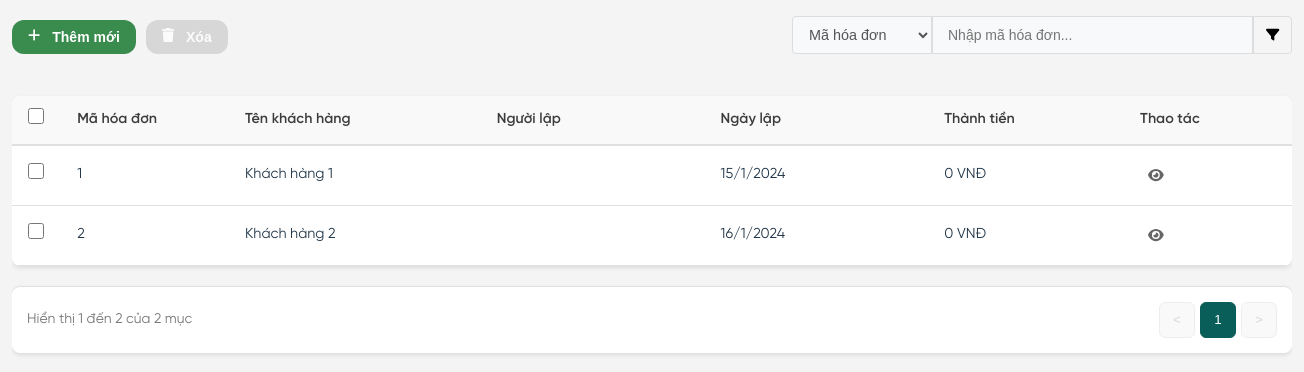
Test: InvoiceTable › opens advanced search panel
The width and height of the screenshot is (1304, 372).
Expected: the text "Khách hàng 1" is shown, [229,146,481,206]
What coordinates should you click on to do the following:
click the button titled "Tìm kiếm nâng cao"
I would click on:
 (1272, 35)
Its box is [1253,16,1292,54].
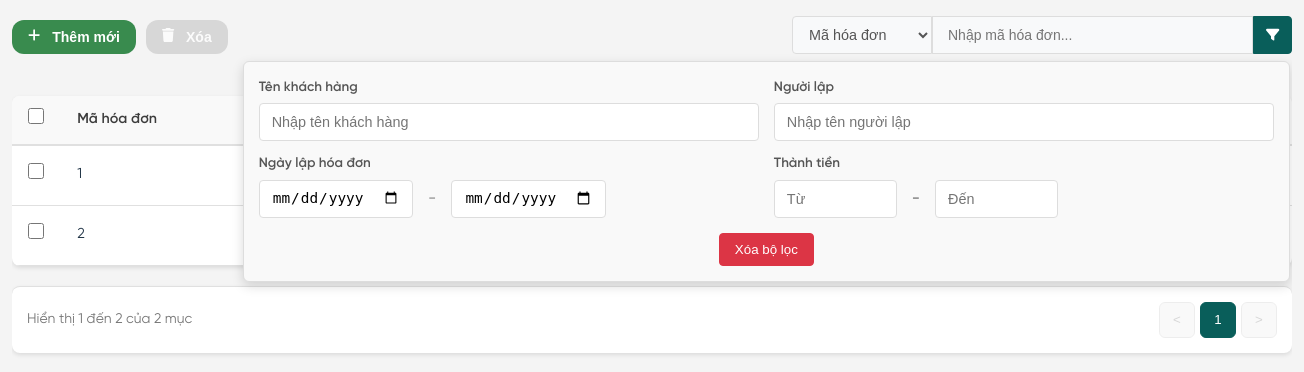
Now the date field with placeholder "Từ ngày" is shown, box [259,180,413,218]
Now the date field with placeholder "Đến ngày" is shown, box [451,180,606,218]
